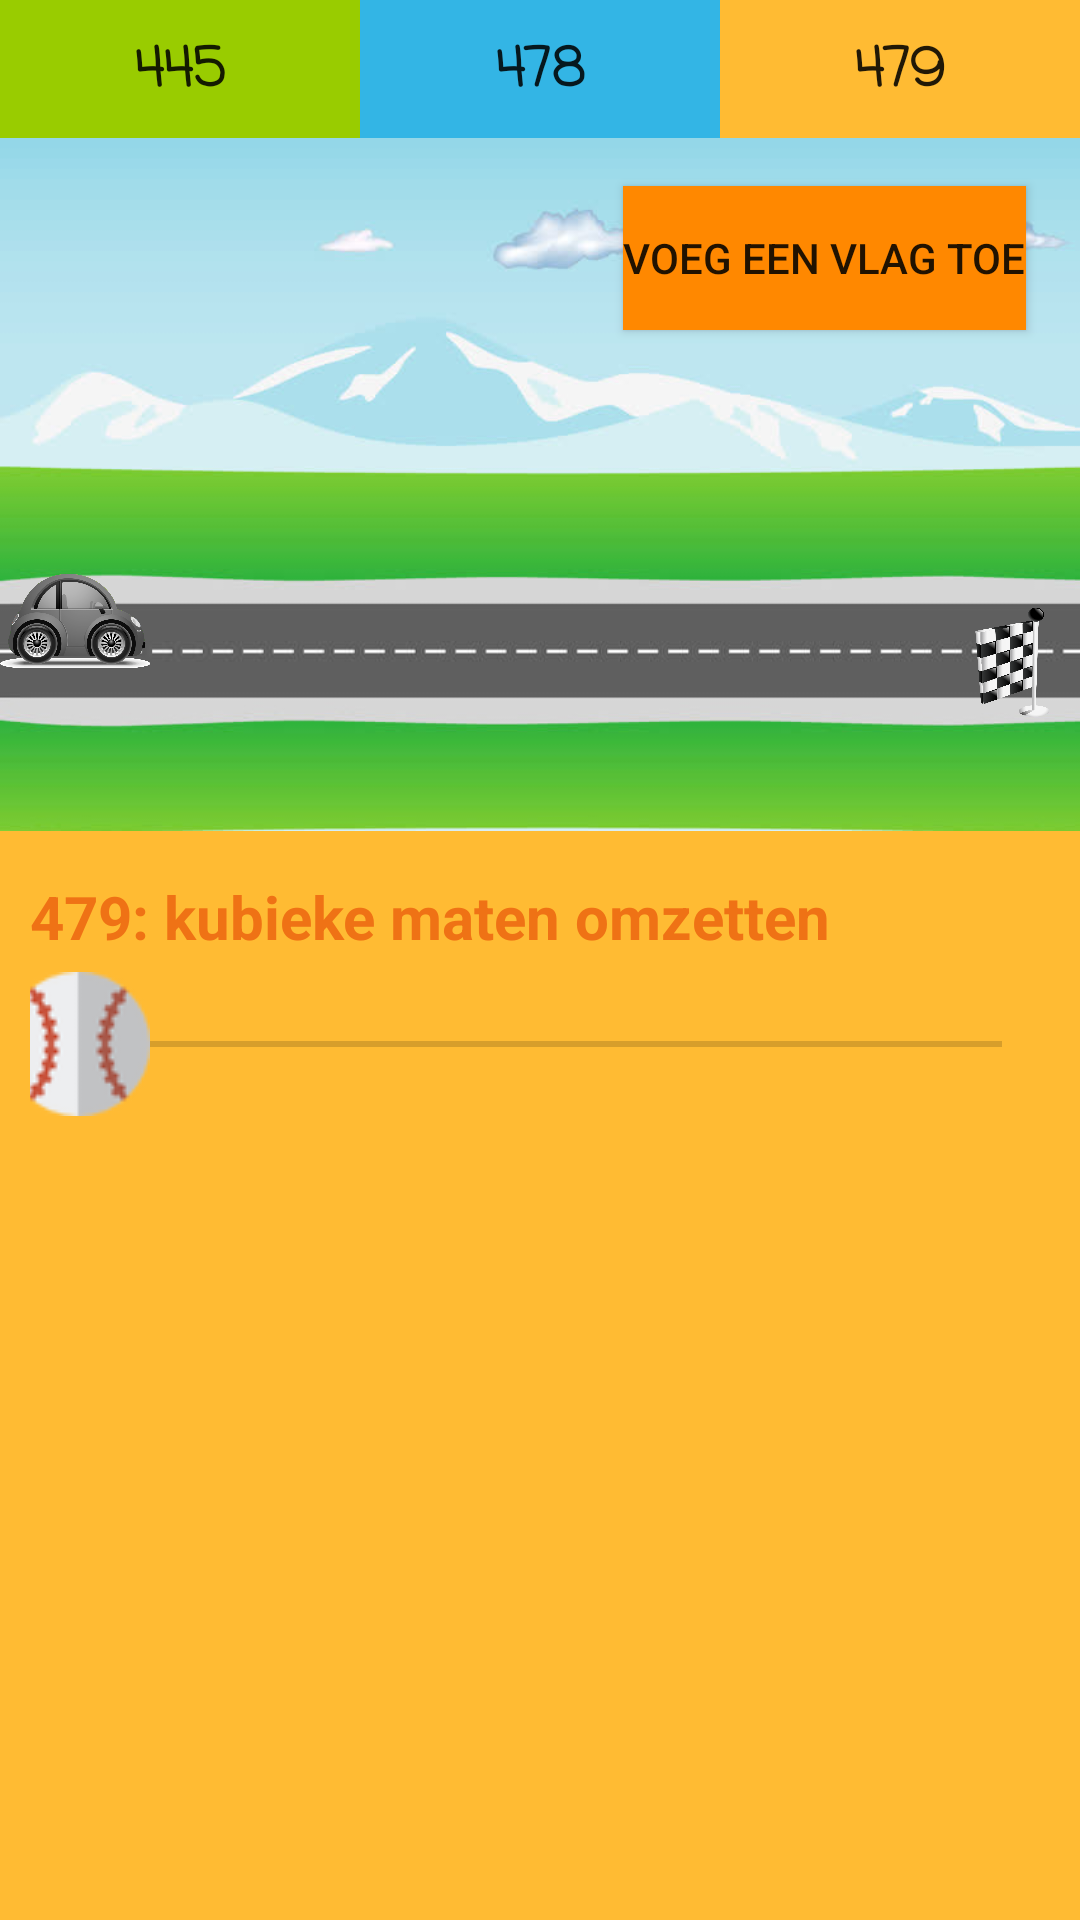

Icons on this 1080w x 1920h Android screen, each with the point to tap as (x,y):
flag: (1018,661)
